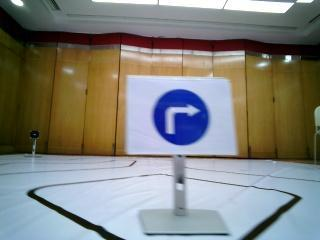right: (127, 76, 233, 154)
